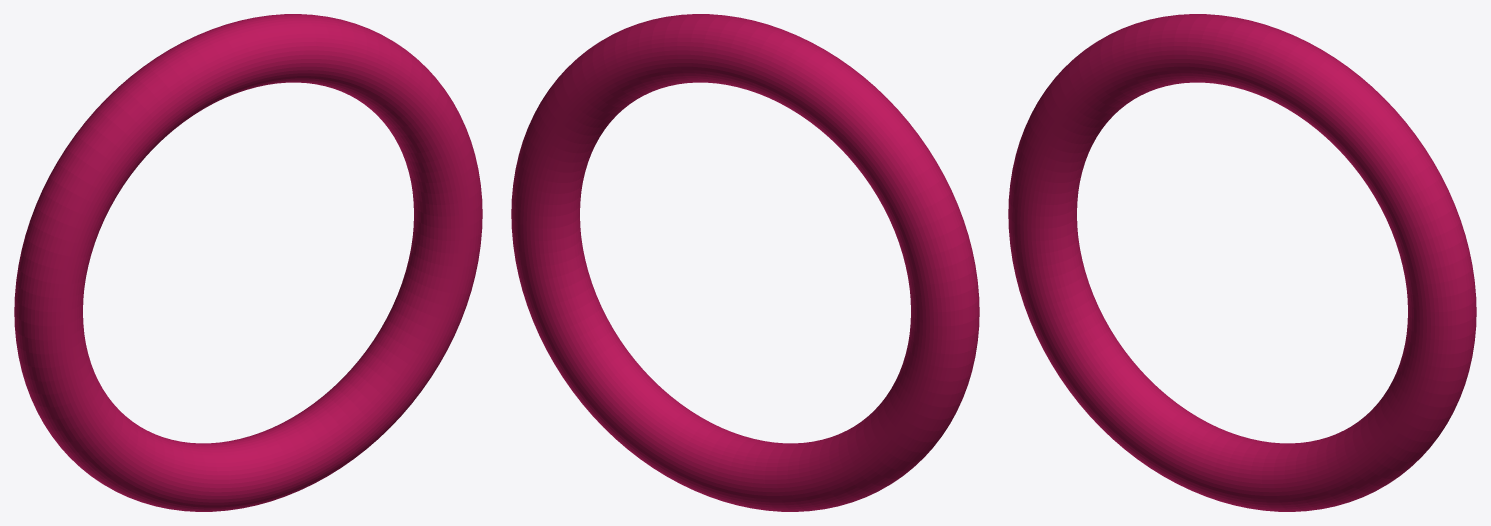
3 views of the same model, side by side, from view 1: azimuth 30°, elevation 25°; view 2: azimuth 150°, elevation 25°; view 3: azimuth 330°, elevation 25° (orthographic).
Visible parts, largest first — view 1: world; view 2: world; view 3: world.
Part boxes in pixels (<box>): world: <box>14,14,482,511</box>; world: <box>511,14,979,511</box>; world: <box>1008,14,1476,511</box>.
Size of the model in its own units: 29.87 by 29.87 by 3.86.
